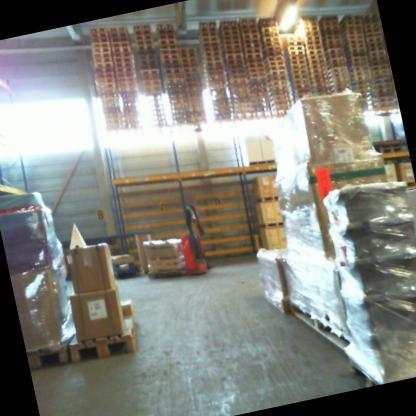pallet: (59, 288, 151, 376), (284, 281, 359, 365), (21, 305, 93, 380), (344, 350, 385, 390), (261, 281, 296, 322), (146, 262, 187, 286), (379, 143, 404, 156), (378, 139, 403, 152), (223, 61, 246, 74), (286, 65, 309, 78), (95, 73, 116, 87), (226, 75, 248, 88), (221, 50, 243, 63), (285, 56, 307, 69), (284, 51, 306, 64), (287, 75, 310, 87), (282, 47, 305, 59), (340, 26, 363, 38), (141, 75, 162, 88), (259, 28, 280, 41), (329, 72, 350, 85), (318, 17, 339, 30), (200, 53, 222, 65), (222, 56, 244, 68), (268, 86, 290, 98), (257, 24, 279, 36), (286, 61, 308, 73), (307, 65, 329, 77), (325, 54, 347, 66), (348, 63, 370, 75), (346, 49, 368, 61), (344, 44, 366, 56), (344, 40, 366, 52), (343, 35, 365, 47), (342, 31, 364, 43), (92, 53, 112, 66), (112, 53, 132, 66), (230, 89, 250, 102), (220, 46, 243, 57), (219, 41, 242, 52), (199, 38, 220, 50), (198, 33, 219, 45), (197, 27, 218, 39), (231, 98, 252, 110), (230, 94, 251, 106), (228, 80, 249, 92), (239, 30, 260, 42), (237, 20, 258, 32), (268, 81, 289, 93), (266, 72, 287, 84), (310, 79, 331, 91), (328, 68, 349, 80), (325, 50, 346, 62), (324, 45, 345, 57), (351, 76, 372, 88), (349, 67, 370, 79), (340, 17, 361, 29), (365, 43, 386, 55), (225, 71, 247, 82), (224, 66, 246, 77), (219, 36, 241, 47), (218, 32, 240, 43), (217, 22, 239, 33), (271, 101, 293, 112), (270, 96, 292, 107), (289, 80, 311, 91), (287, 71, 309, 82), (340, 22, 362, 33), (131, 21, 151, 33), (94, 68, 114, 80), (93, 59, 113, 71), (114, 68, 134, 80), (113, 63, 133, 75), (113, 59, 133, 71), (111, 48, 131, 60), (110, 43, 130, 55), (110, 38, 130, 50), (109, 33, 129, 45), (247, 73, 267, 85), (263, 52, 283, 64), (260, 38, 280, 50), (259, 33, 279, 45), (304, 41, 324, 53), (320, 22, 340, 34), (168, 89, 186, 102), (96, 80, 117, 91), (205, 76, 226, 87), (203, 67, 224, 78), (202, 62, 223, 73), (200, 48, 221, 59), (199, 43, 220, 54), (218, 27, 239, 38), (246, 69, 267, 80), (244, 59, 265, 70), (243, 54, 264, 65), (242, 50, 263, 61), (270, 92, 291, 103), (267, 77, 288, 88), (266, 67, 287, 78), (265, 62, 286, 73), (264, 58, 285, 69), (257, 20, 278, 31), (311, 84, 332, 95), (304, 46, 325, 57), (330, 77, 351, 88), (350, 72, 371, 83), (347, 54, 368, 65), (143, 81, 162, 93), (166, 84, 185, 96), (161, 54, 180, 66), (160, 50, 179, 62), (180, 64, 199, 76), (135, 41, 155, 52), (98, 90, 118, 101), (97, 85, 117, 96), (91, 49, 111, 60), (91, 44, 111, 55), (117, 83, 137, 94), (116, 78, 136, 89), (137, 51, 157, 62), (229, 85, 249, 96), (218, 17, 238, 28), (246, 64, 266, 75), (242, 44, 262, 55), (240, 34, 260, 45), (239, 26, 259, 37), (237, 15, 257, 26), (261, 43, 281, 54), (310, 74, 330, 85), (309, 70, 329, 81), (307, 60, 327, 71), (306, 55, 326, 66), (328, 64, 348, 75), (327, 59, 347, 70), (323, 41, 343, 52), (322, 36, 342, 47), (321, 31, 341, 42), (352, 81, 372, 92), (347, 59, 369, 69), (368, 57, 388, 68), (164, 70, 182, 82), (163, 64, 181, 76), (160, 45, 178, 57), (156, 24, 174, 36), (304, 36, 322, 48), (206, 81, 227, 91), (204, 72, 225, 82), (201, 58, 222, 68), (247, 79, 268, 89), (94, 64, 113, 75), (91, 39, 110, 50), (90, 34, 109, 45), (88, 24, 107, 35), (109, 29, 128, 40), (108, 24, 127, 35), (144, 86, 163, 97), (141, 71, 160, 82), (140, 66, 159, 77), (139, 56, 158, 67), (136, 46, 155, 57), (165, 80, 184, 91), (161, 59, 180, 70), (157, 36, 176, 47), (184, 83, 203, 94), (183, 78, 202, 89), (182, 74, 201, 85), (181, 69, 200, 80), (179, 59, 198, 70), (177, 44, 196, 55), (197, 23, 216, 34), (197, 18, 216, 29), (242, 40, 261, 51), (370, 66, 389, 77), (364, 33, 383, 44), (362, 24, 381, 35), (115, 74, 135, 84), (262, 49, 282, 59), (312, 88, 332, 98), (305, 51, 325, 61), (320, 27, 340, 37), (372, 80, 392, 90), (367, 53, 387, 63), (179, 53, 197, 64), (101, 100, 119, 111), (140, 61, 158, 72), (135, 36, 153, 47), (165, 75, 183, 86), (159, 41, 177, 52), (157, 31, 175, 42), (178, 49, 196, 60), (287, 42, 305, 53), (304, 32, 322, 43), (89, 30, 108, 40), (133, 27, 152, 37), (377, 98, 396, 108), (376, 94, 395, 104), (371, 76, 390, 86), (371, 72, 390, 82), (369, 62, 388, 72), (367, 48, 386, 58), (365, 39, 384, 49), (363, 29, 382, 39), (248, 84, 269, 93), (106, 119, 123, 130), (286, 37, 303, 48), (302, 22, 319, 33), (104, 115, 122, 125), (103, 110, 121, 120), (102, 106, 120, 116), (100, 95, 118, 105), (134, 32, 152, 42), (303, 27, 321, 37), (375, 85, 393, 95), (361, 19, 379, 29), (286, 32, 302, 43), (155, 20, 172, 30), (301, 18, 318, 28)
pallet_truck: (172, 213, 210, 278)
